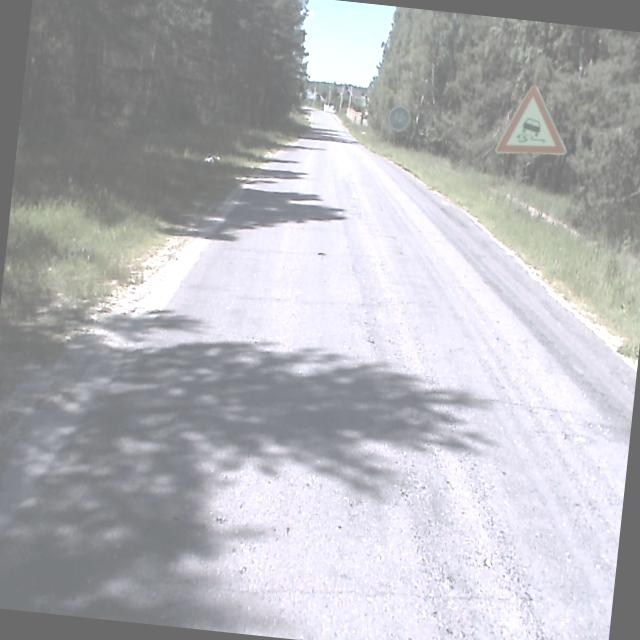road: (0, 110, 636, 640)
